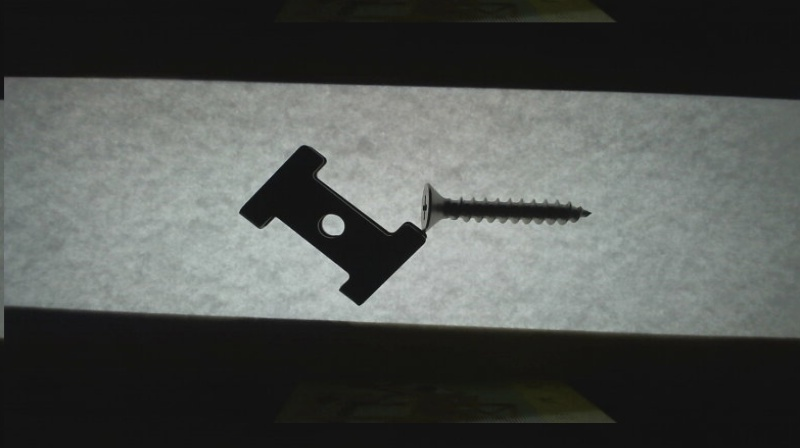O002: (236, 141, 427, 307)
S001: (418, 181, 597, 233)
